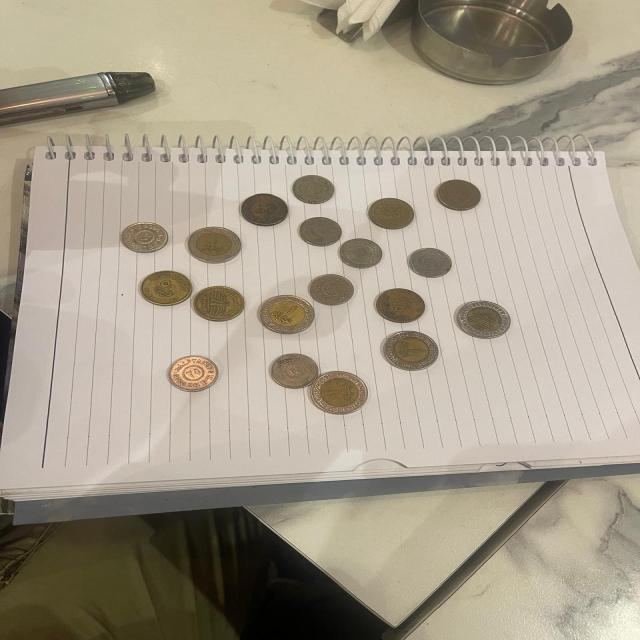Half Pound: (371, 281, 429, 326), (191, 283, 253, 324), (139, 270, 193, 306), (240, 192, 289, 226), (368, 198, 416, 230), (436, 179, 482, 212)
One Pound: (453, 297, 514, 344), (380, 328, 440, 374), (310, 371, 369, 415), (258, 300, 316, 337), (186, 226, 242, 263)
quarter pound: (160, 350, 223, 395), (117, 216, 171, 256), (404, 244, 457, 283), (298, 213, 346, 252), (268, 354, 320, 388), (308, 274, 355, 306), (338, 238, 383, 270), (291, 174, 336, 204)
